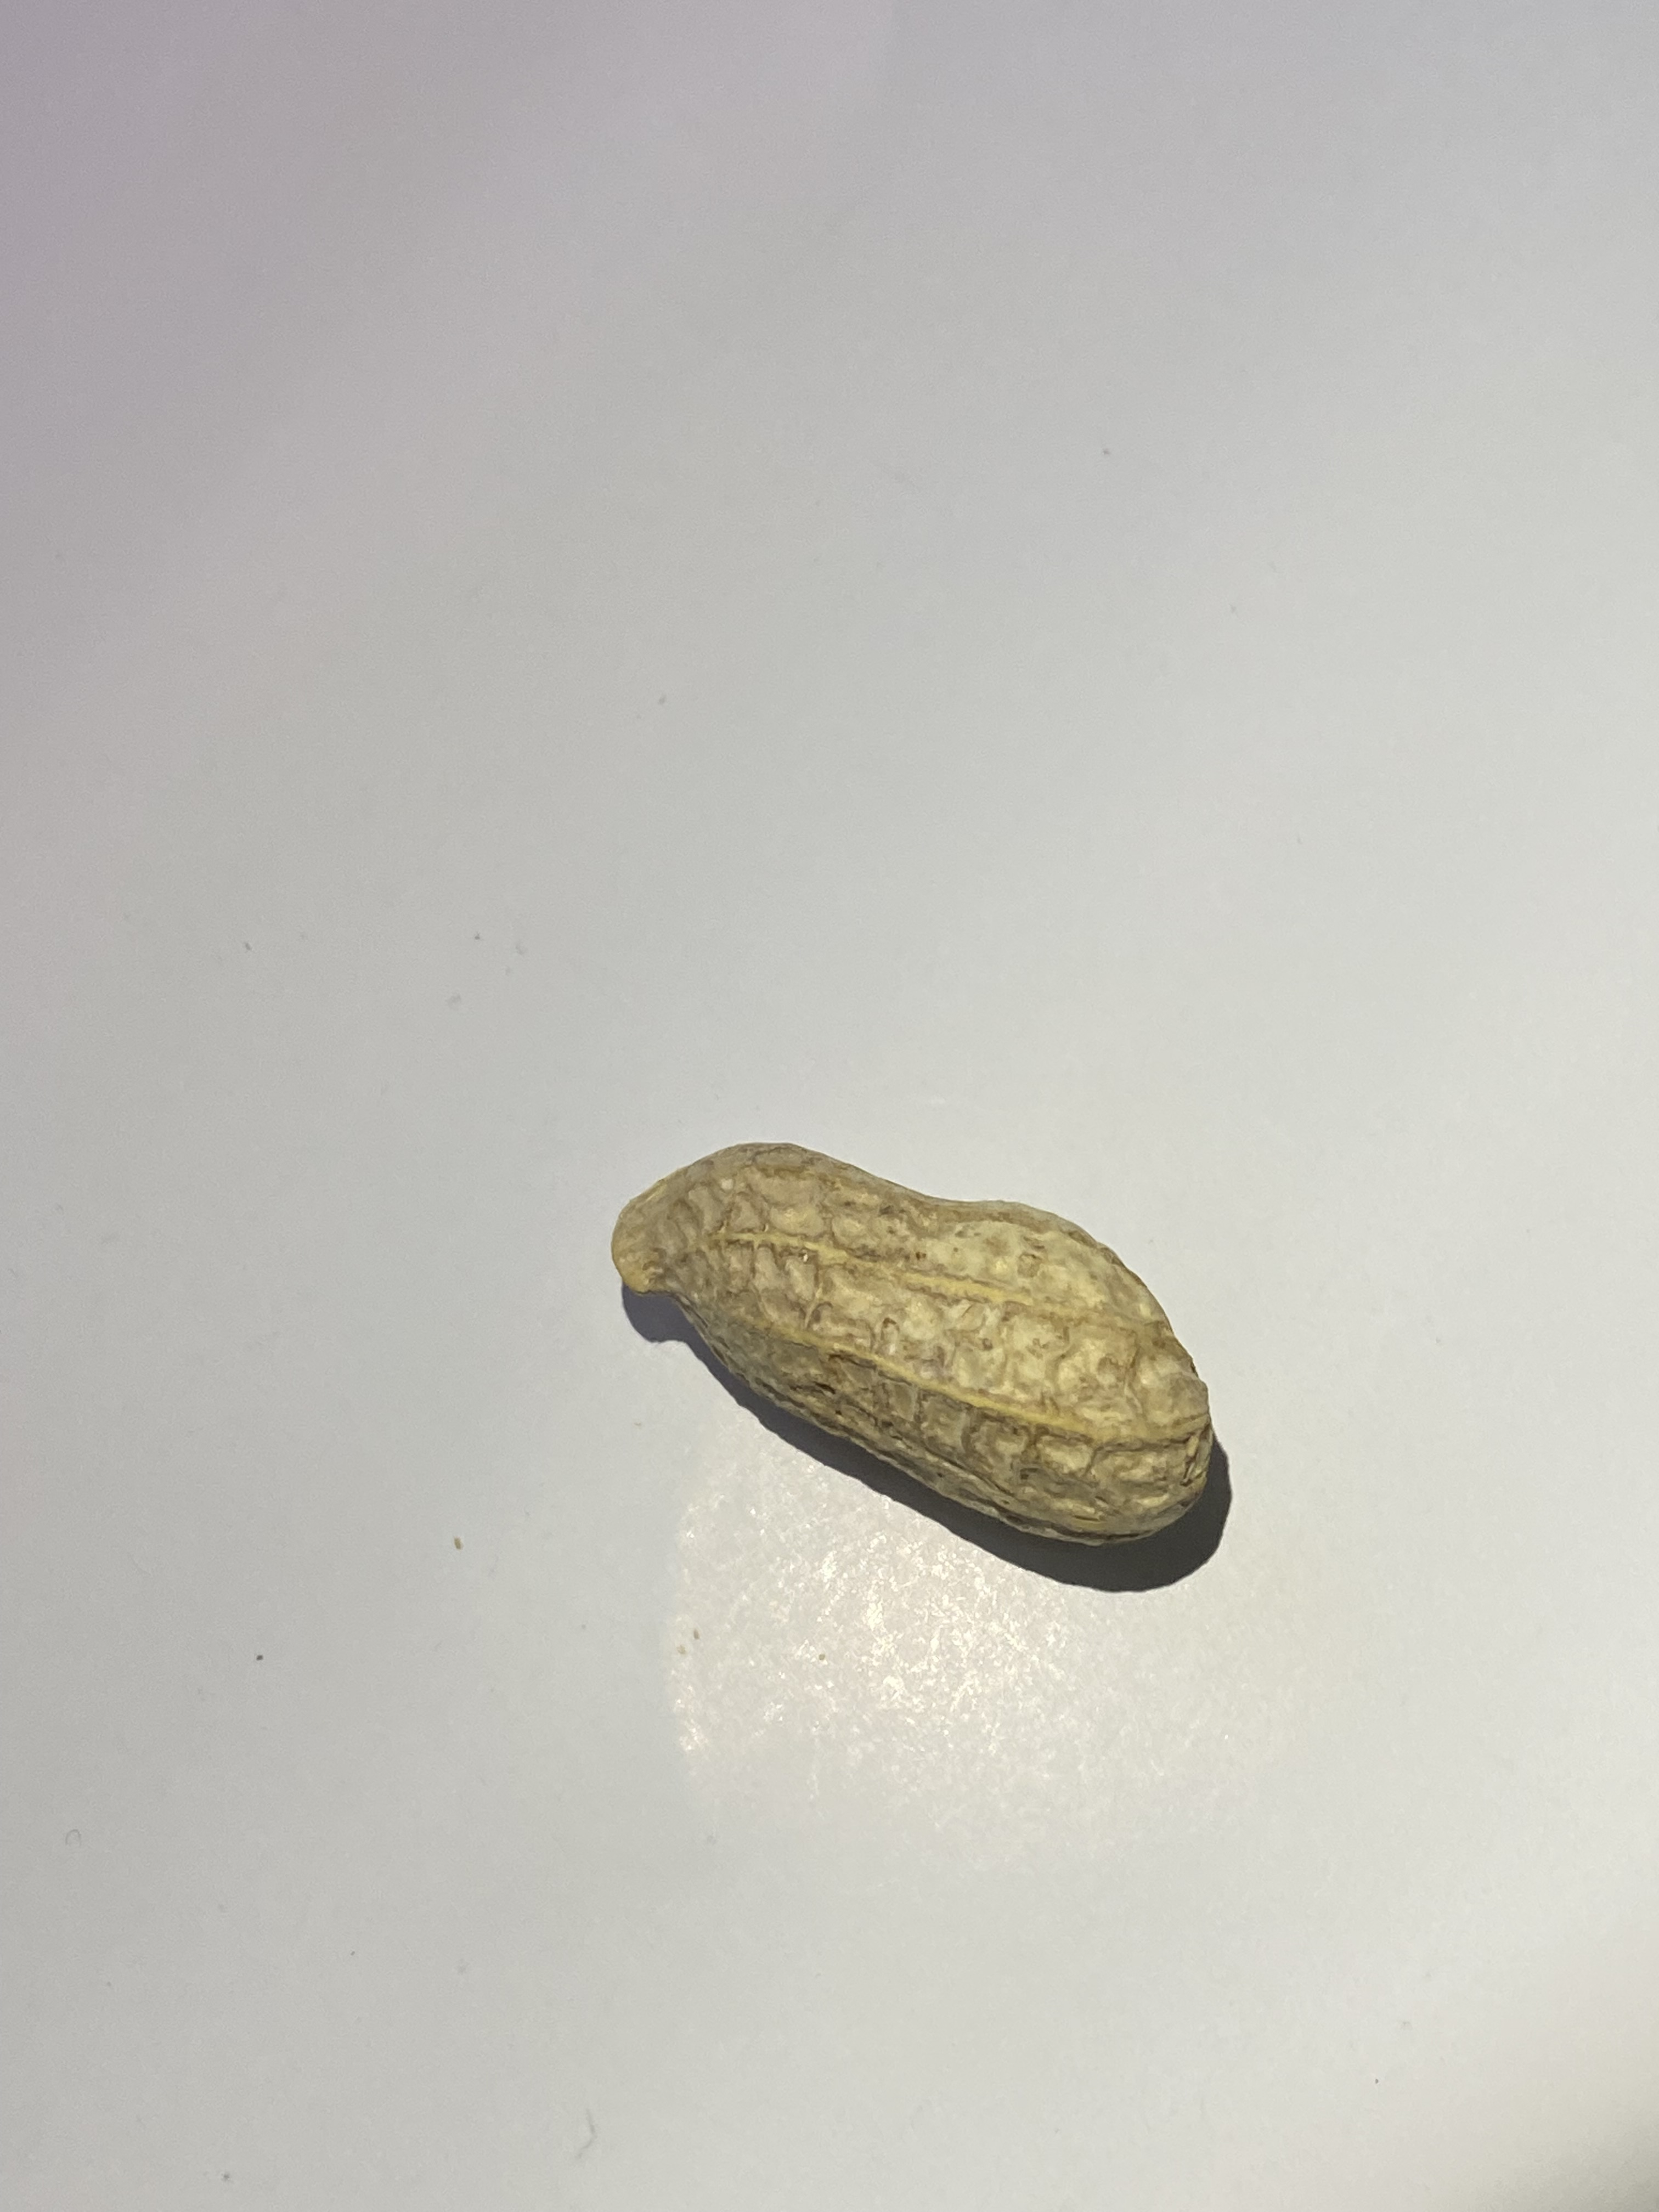kacang2: (566, 1130, 1249, 1588)
